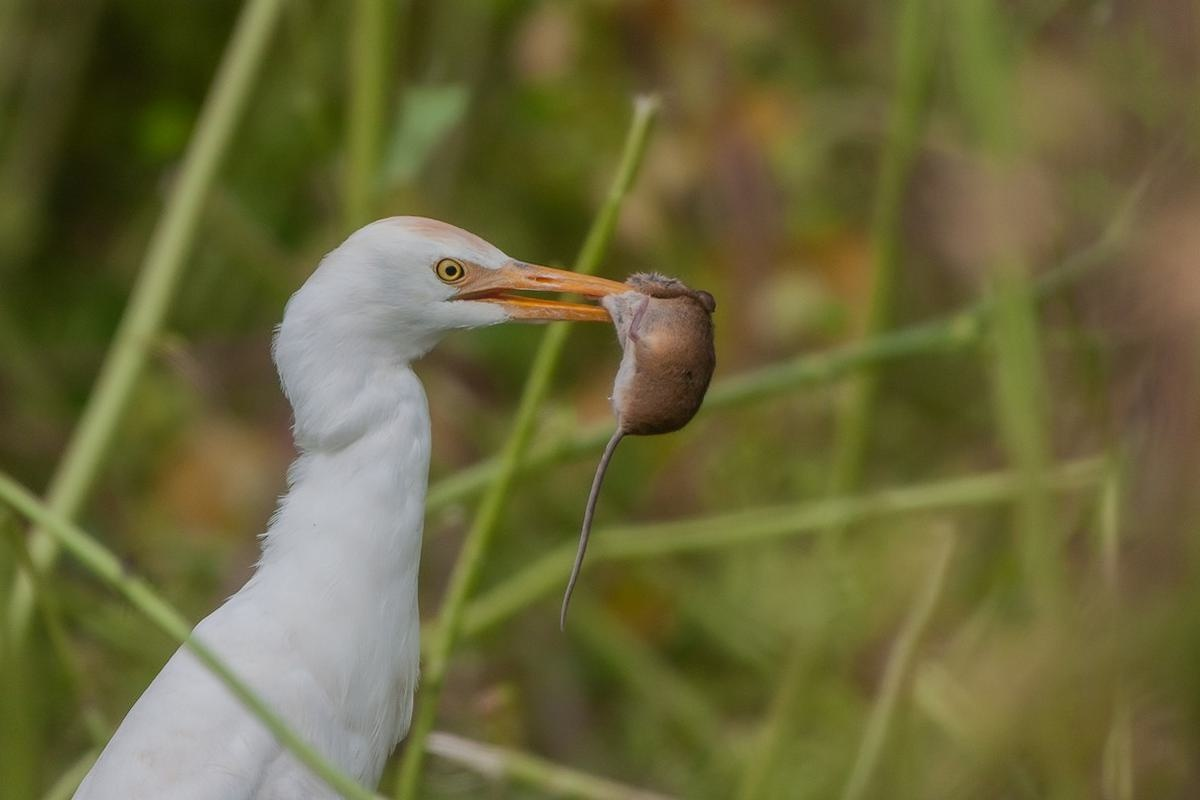egret: (201, 195, 693, 800)
